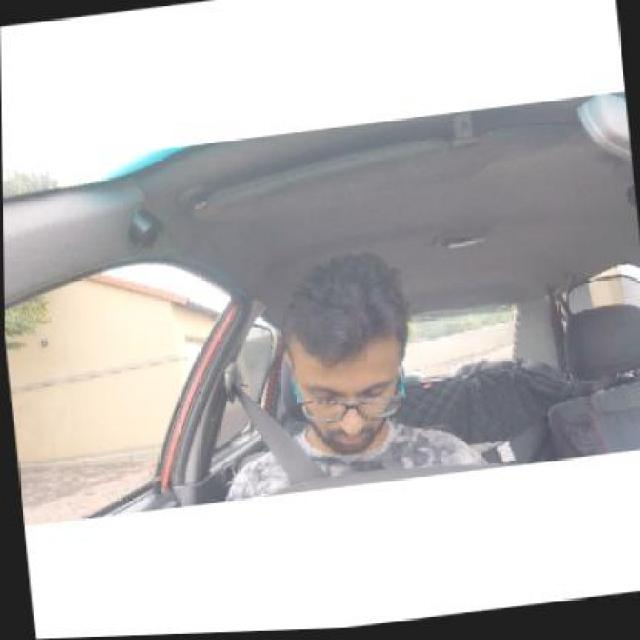drowsy: (278, 260, 411, 447)
